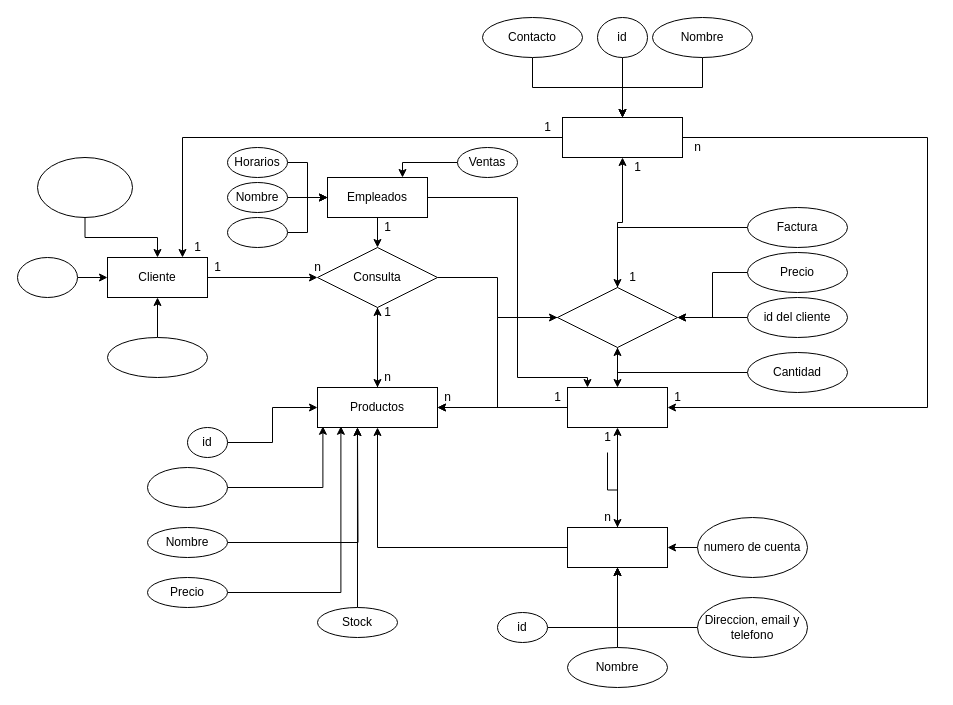
Some shapes in this 953 by 705 pixel diagram are drawn without their labels. The shapes that lost their labels are listed below. From the top down, each one's centre as x and y in pixels, then its label:
At [622,137]: "Repartidor".
At [84,187]: "Dni, telefono y email".
At [257,232]: "Sueldo".
At [47,277]: "Edad".
At [617,317]: "compra".
At [157,357]: "Nombre y Apellido".
At [617,407]: "Muebleria".
At [187,487]: "categoria de mueble".
At [617,547]: "Proveedores".
